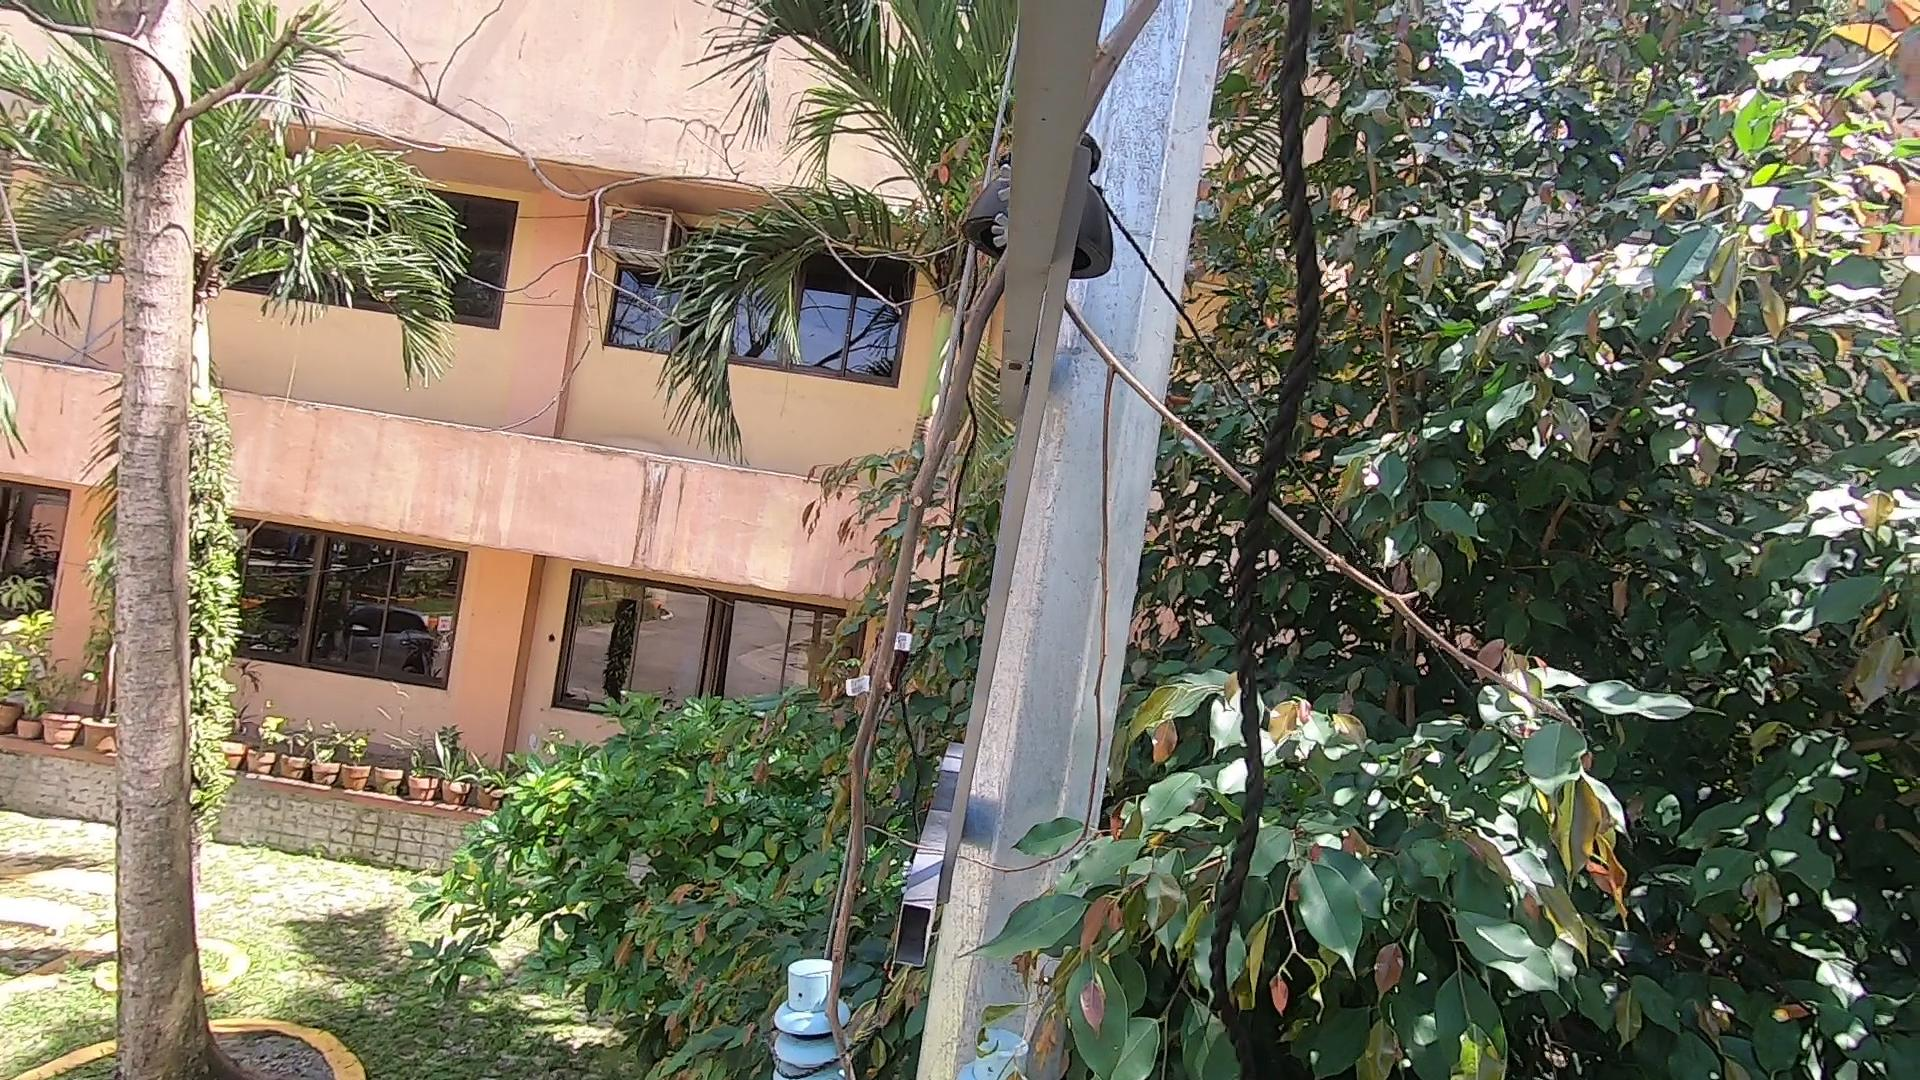branch with leaves: (931, 791, 1232, 1080)
tree branch: (785, 102, 1145, 1080)
